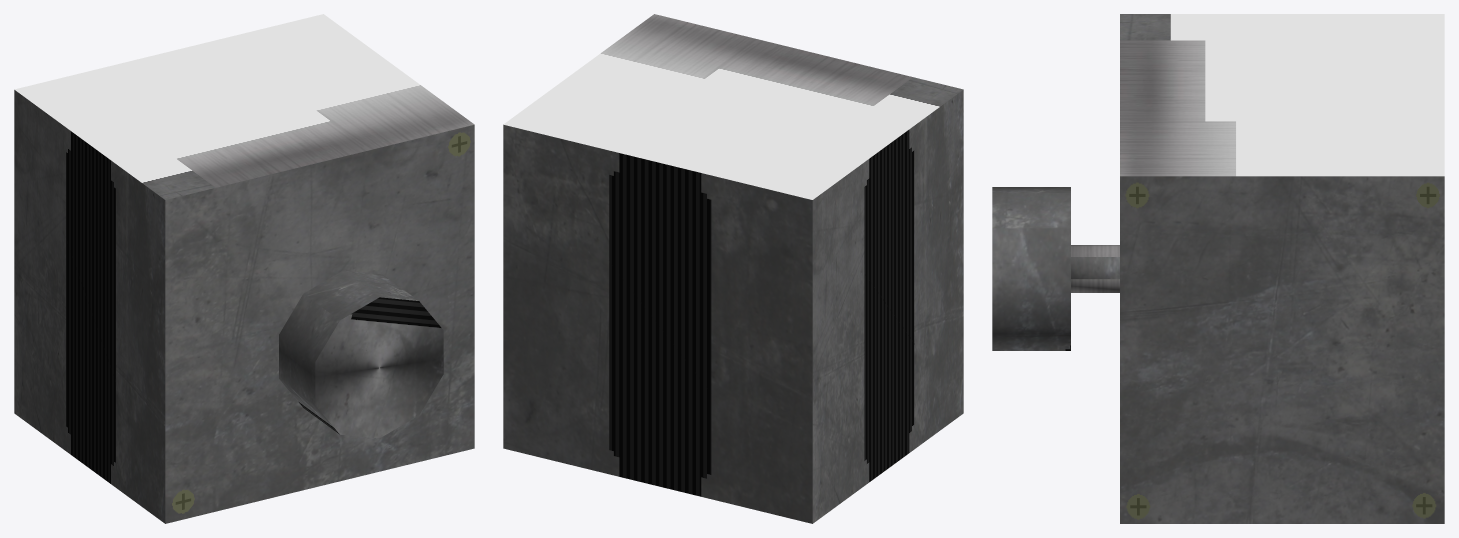
Rendered from StepperMotor0.gltf.
The picture shows the model from 3 angles, left to right: view 1: azimuth 30°, elevation 25°; view 2: azimuth 150°, elevation 25°; view 3: azimuth 270°, elevation 25°; orthographic projection. The views are drawn at different scales.
Visible parts, largest first — view 1: Stepper Motor 0; view 2: Stepper Motor 0; view 3: Stepper Motor 0.
Part boxes in pixels (bbox=[...]): Stepper Motor 0: bbox=[14, 14, 474, 523]; Stepper Motor 0: bbox=[503, 14, 963, 523]; Stepper Motor 0: bbox=[992, 14, 1444, 523].
Size of the model in its own units: 39 by 39 by 46.
Materials: 1 (1 with a texture image).
